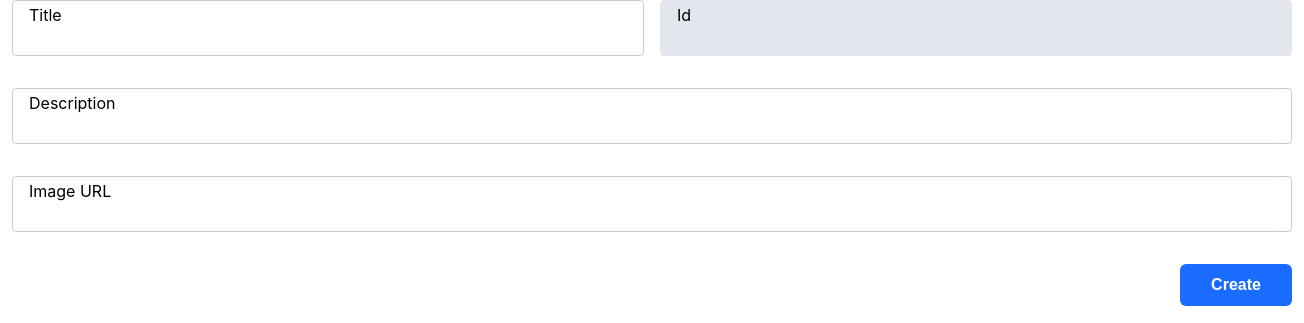
Test case: Entry/Form › should not submit and show validation errors if the form is not valid
The width and height of the screenshot is (1304, 323).
Click the button with test id "entry-form-submit" at [1236, 285], box [1180, 264, 1292, 306]
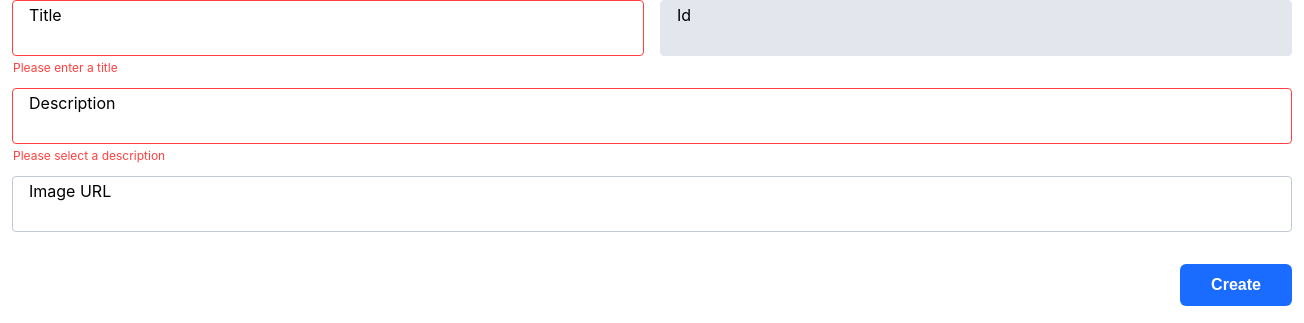
Check: the text "Please enter a title" is shown, box [13, 60, 118, 75]
Check: the text "Please select a description" is shown, box [13, 148, 165, 163]
